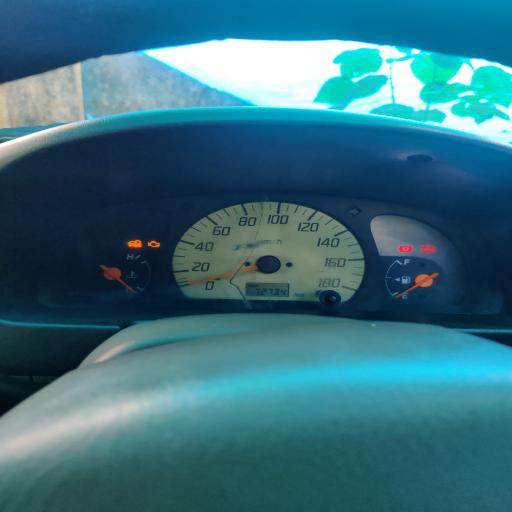brake_system_fault: (398, 246, 412, 252)
car_closed: (127, 239, 142, 248)
check_engine: (148, 241, 160, 248)
vehicle_charging: (422, 245, 436, 253)
